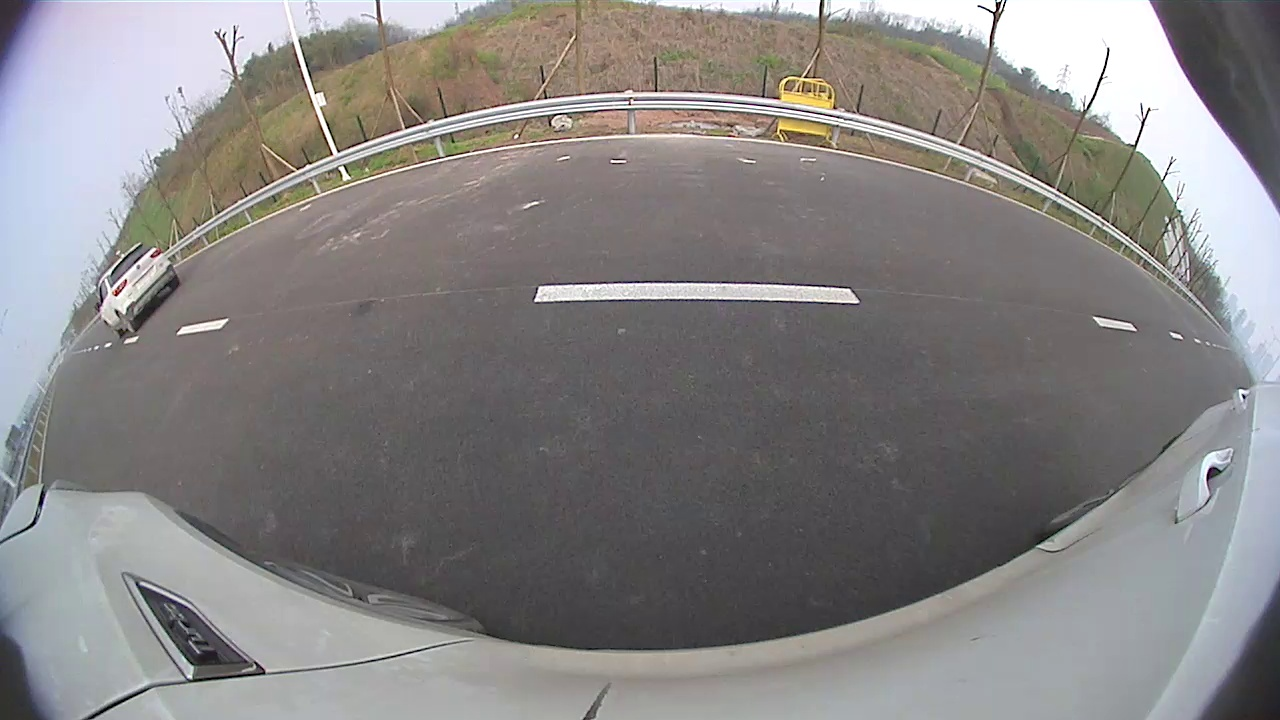car: (95, 153, 260, 293)
front: (143, 241, 177, 280)
rear: (107, 262, 132, 291)
